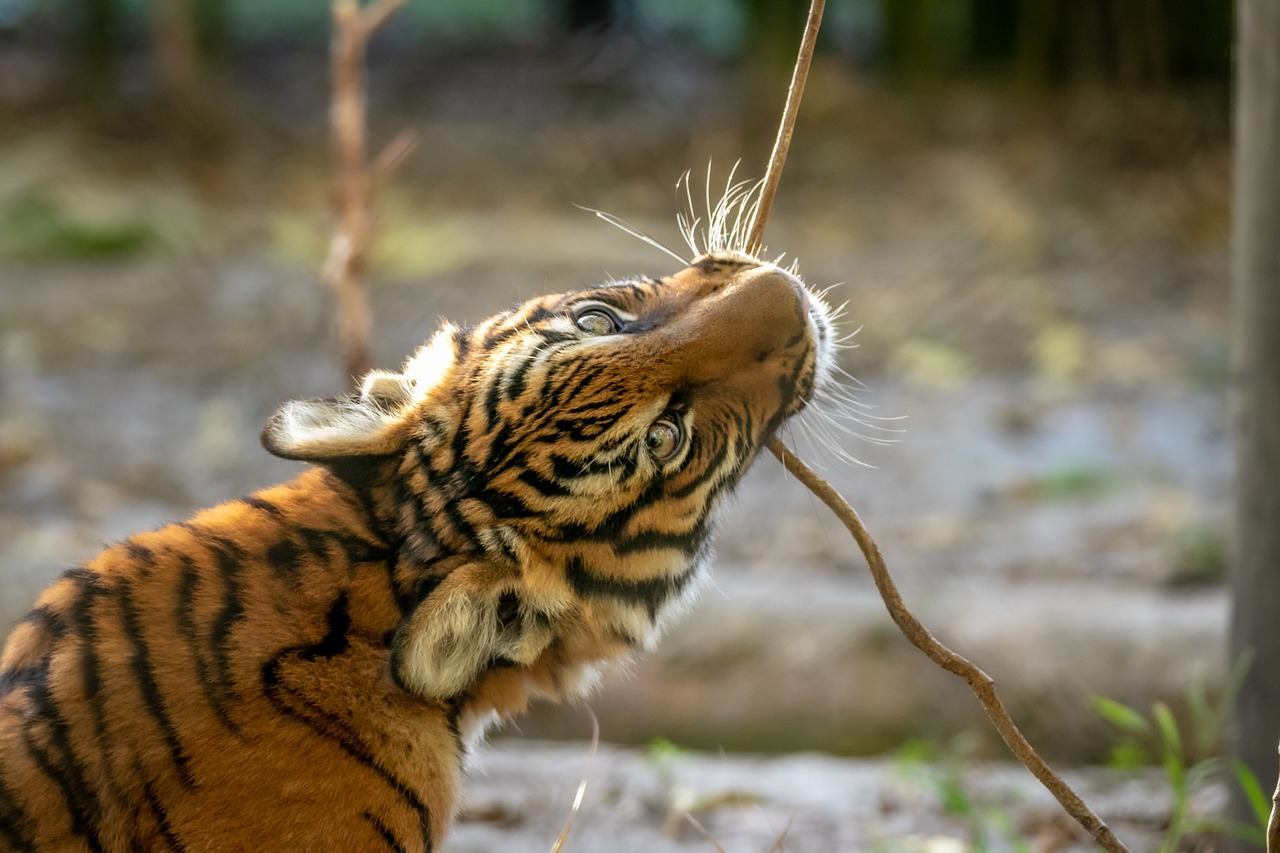tiger: (212, 138, 887, 754)
